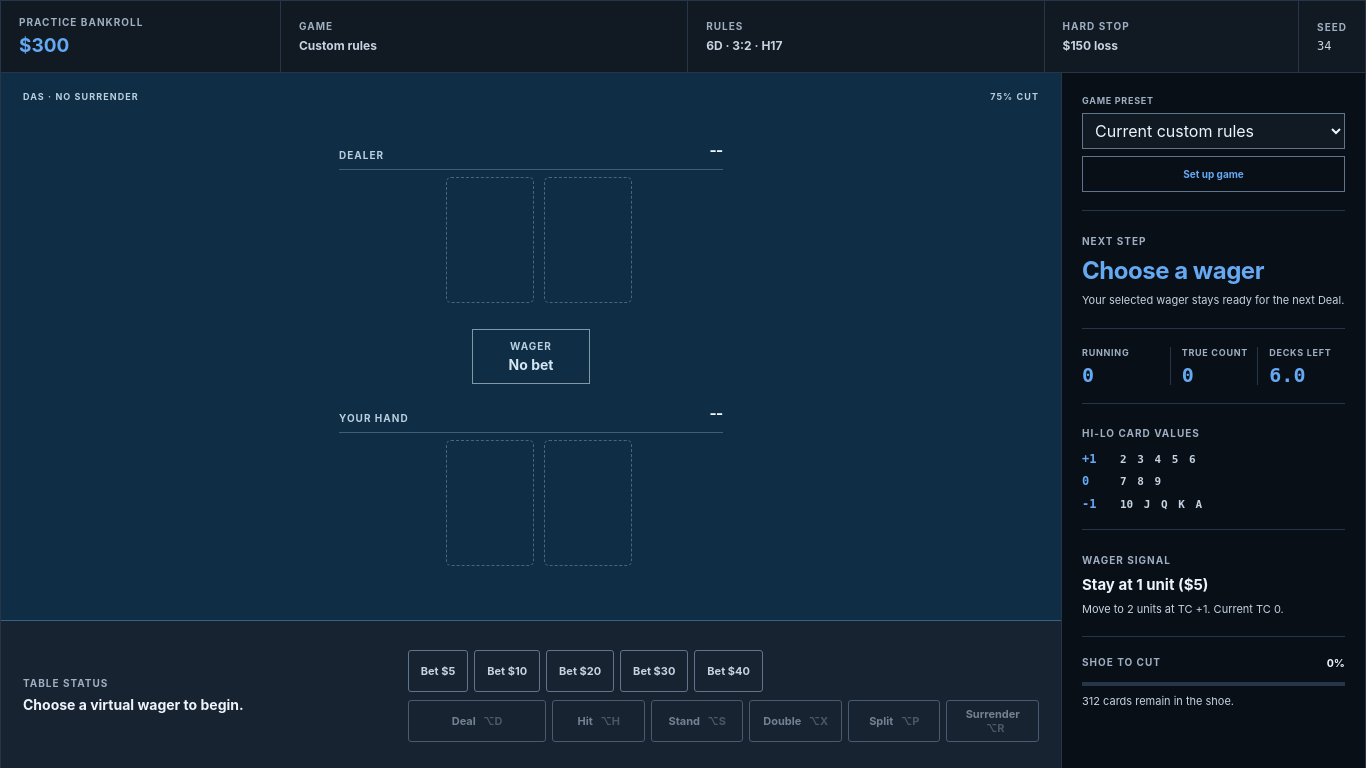
Test: BlackjackTable › shows the retained wager after an automatically settled blackjack
Click the button "Bet $5" at (438, 671), box x1=408 y1=650 x2=468 y2=692
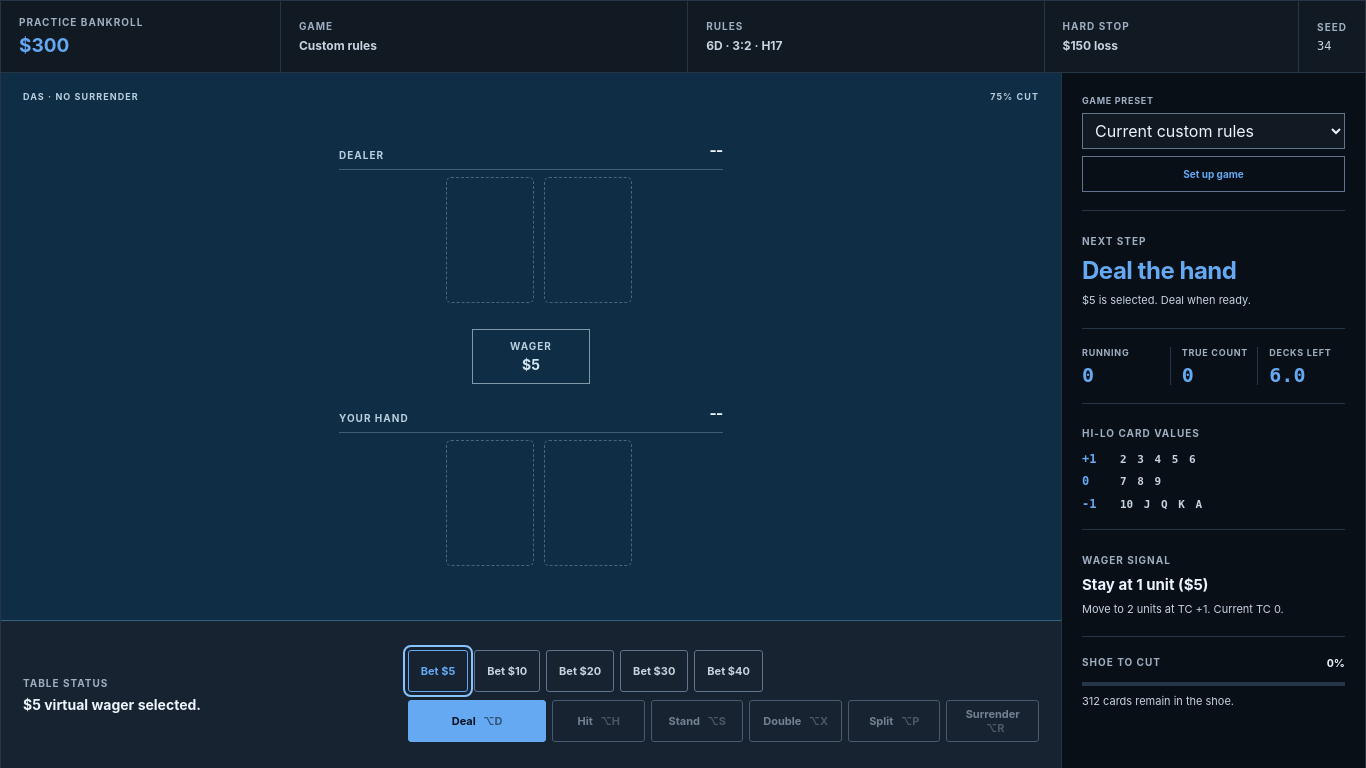
Click the button "Deal ⌥D" at (477, 721), box x1=408 y1=700 x2=546 y2=742
(page scrolled)
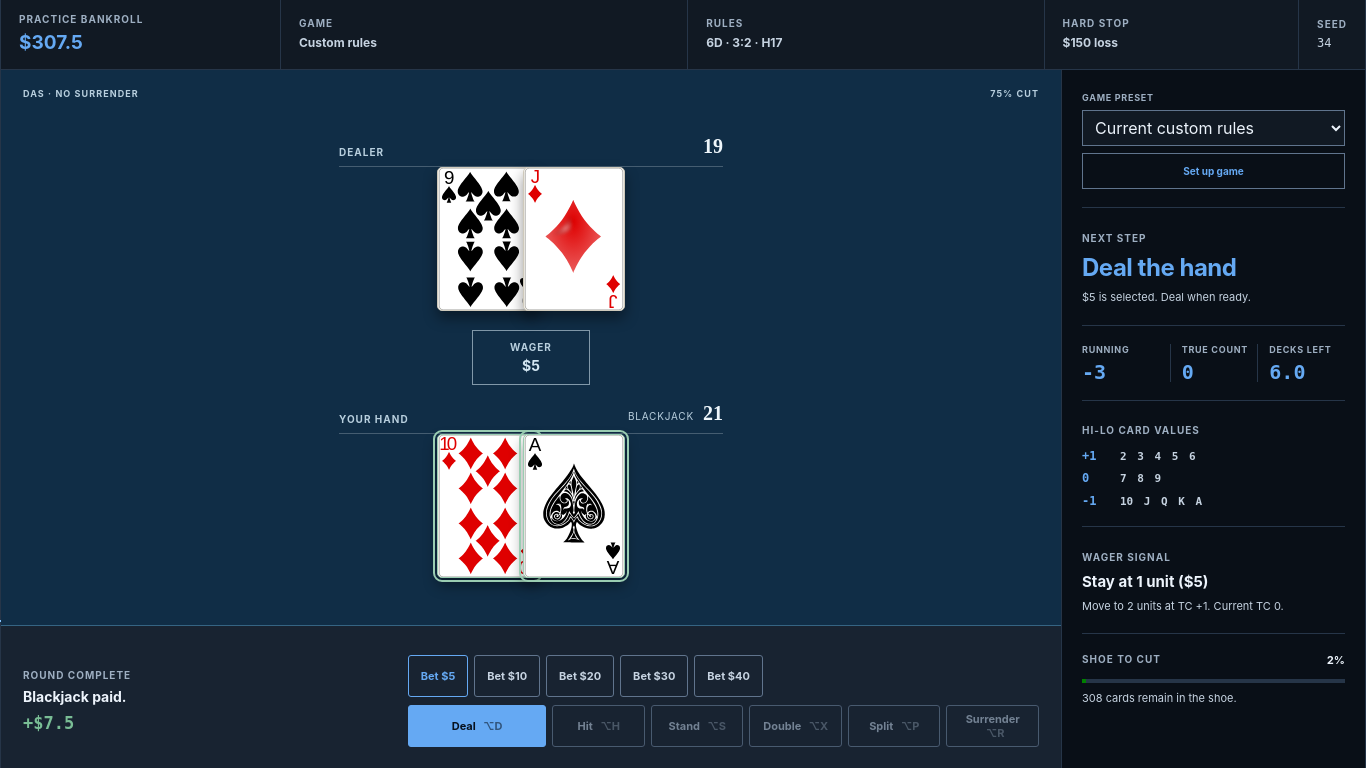
Check: the element named "Decision explanation" shows "Deal the hand", box x1=1082 y1=253 x2=1236 y2=282
Check: the element named "Decision explanation" shows "$5 is selected. Deal when ready.", box x1=1082 y1=290 x2=1251 y2=304
Check: the text "Round complete" is shown, box x1=23 y1=668 x2=131 y2=680
